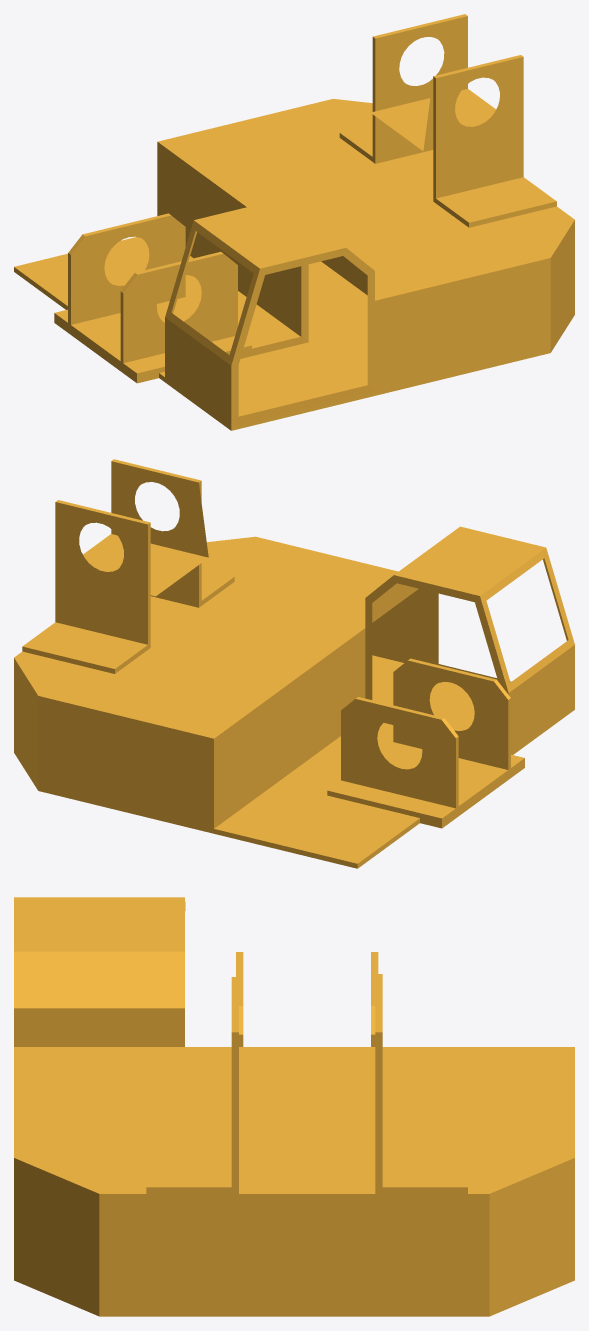
The model's file is cockpit.glb.
3 renders of one model, top to bottom at view 1: azimuth 30°, elevation 25°; view 2: azimuth 150°, elevation 25°; view 3: azimuth 270°, elevation 25°, orthographic. The views are drawn at different scales.
Parts seen in each view (by area): view 1: Body.004; view 2: Body.004; view 3: Body.004.
Part boxes in pixels (bbox=[...]): Body.004: bbox=[14, 14, 574, 430]; Body.004: bbox=[14, 459, 574, 868]; Body.004: bbox=[14, 897, 574, 1316].
Size of the model in its own units: 68.07 by 40.86 by 64.3.
1 material, 1 textured.
